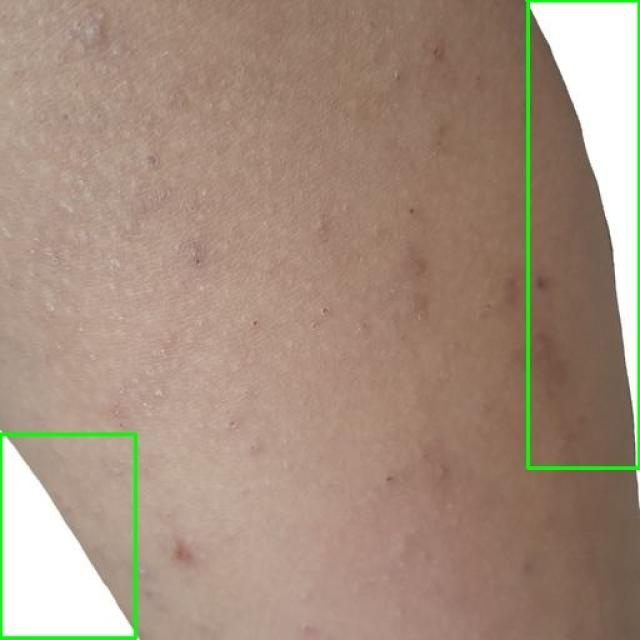Scabies: (528, 0, 639, 468), (0, 435, 136, 639)
